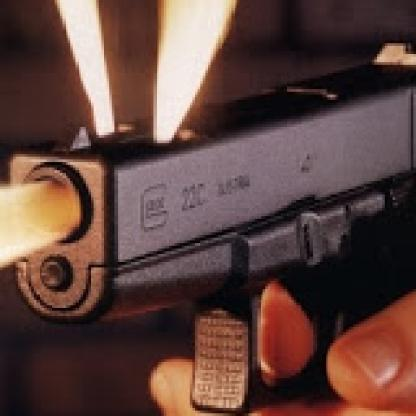gun: (0, 26, 414, 414)
